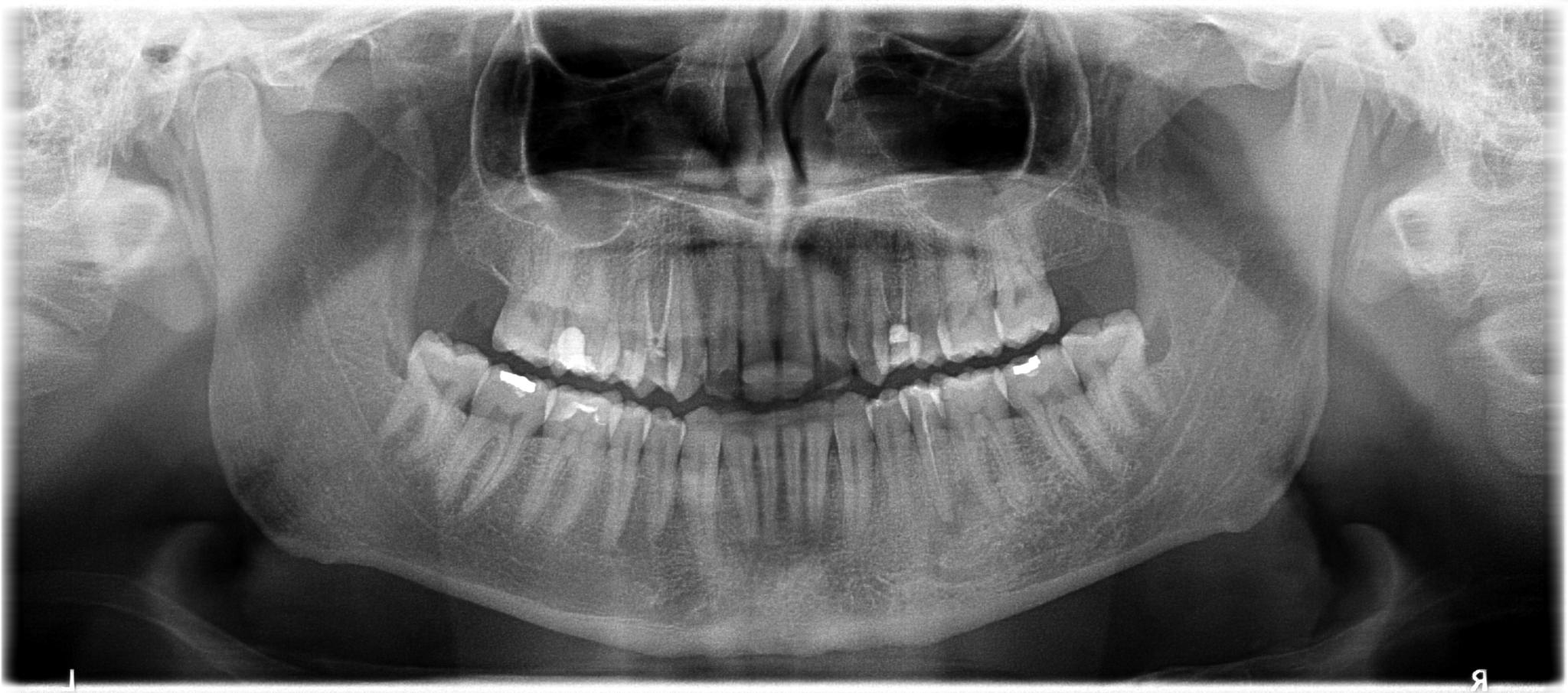Premolars: (582, 165, 1568, 470), (254, 168, 732, 545)
